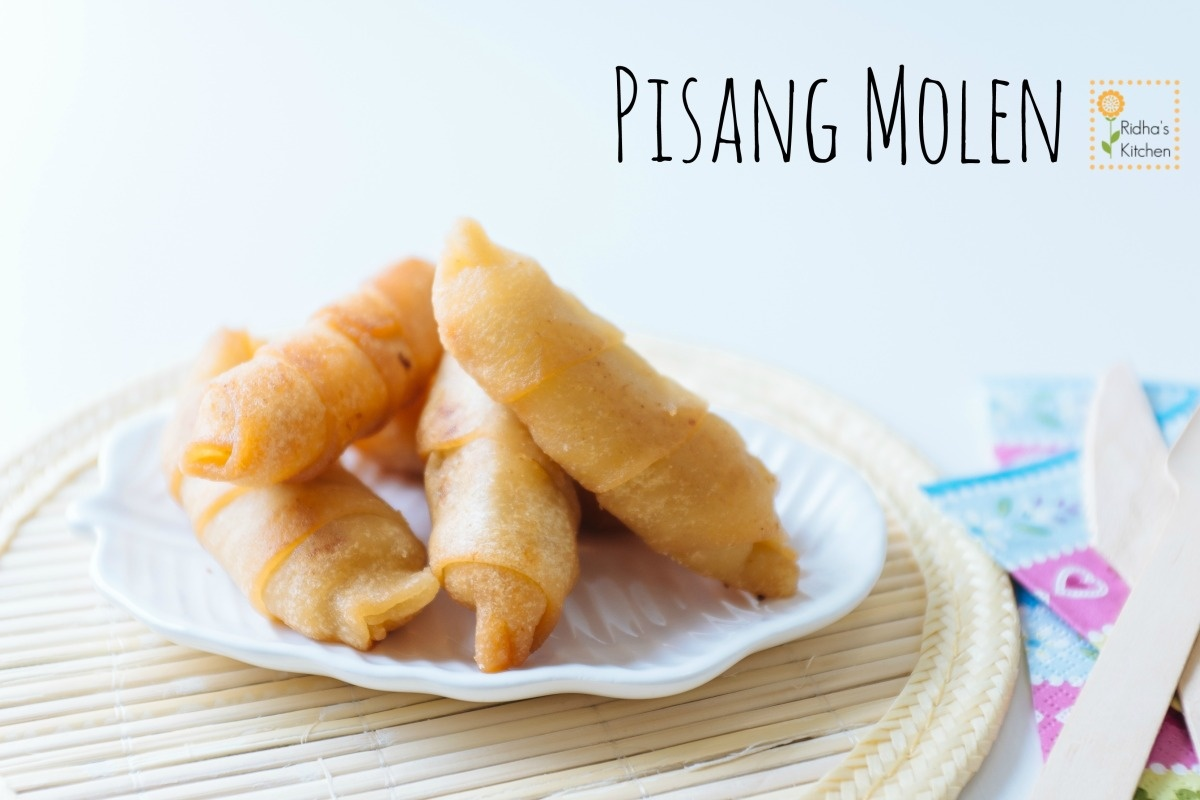pisang_molen: (436, 215, 810, 600), (180, 252, 435, 476)
